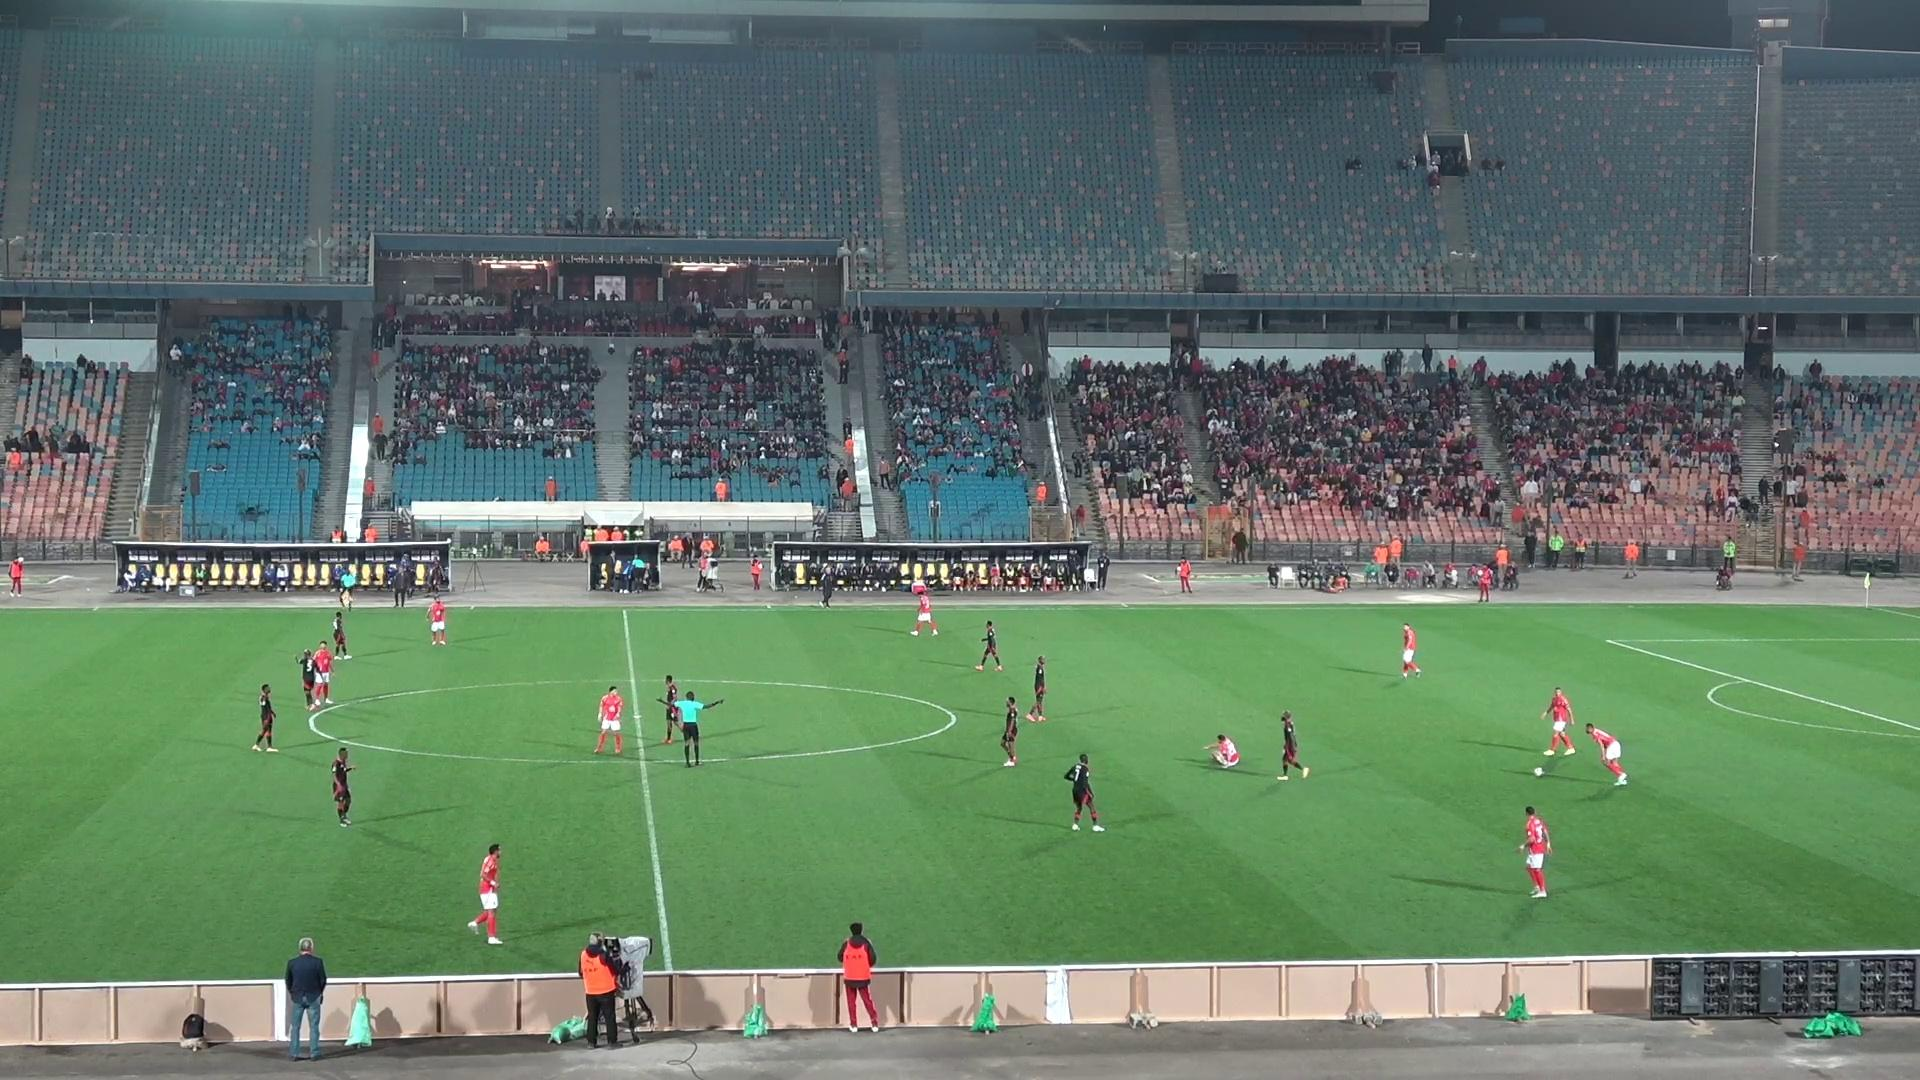Ball: (1532, 757, 1552, 778)
Refree: (667, 690, 723, 765), (336, 560, 360, 620)
Team1: (467, 844, 502, 945), (1518, 807, 1552, 899), (1585, 724, 1629, 785), (1542, 688, 1575, 756), (595, 684, 626, 753), (307, 641, 336, 711), (910, 584, 938, 636), (1204, 735, 1241, 770), (1399, 622, 1422, 676), (427, 597, 448, 645)
Team2: (1064, 753, 1104, 831), (658, 676, 702, 742), (1276, 709, 1309, 781), (295, 644, 326, 712), (331, 746, 353, 825), (251, 683, 276, 752), (1000, 696, 1023, 767), (1025, 655, 1047, 723), (975, 621, 1004, 670), (328, 609, 353, 659), (1025, 705, 1046, 723)
